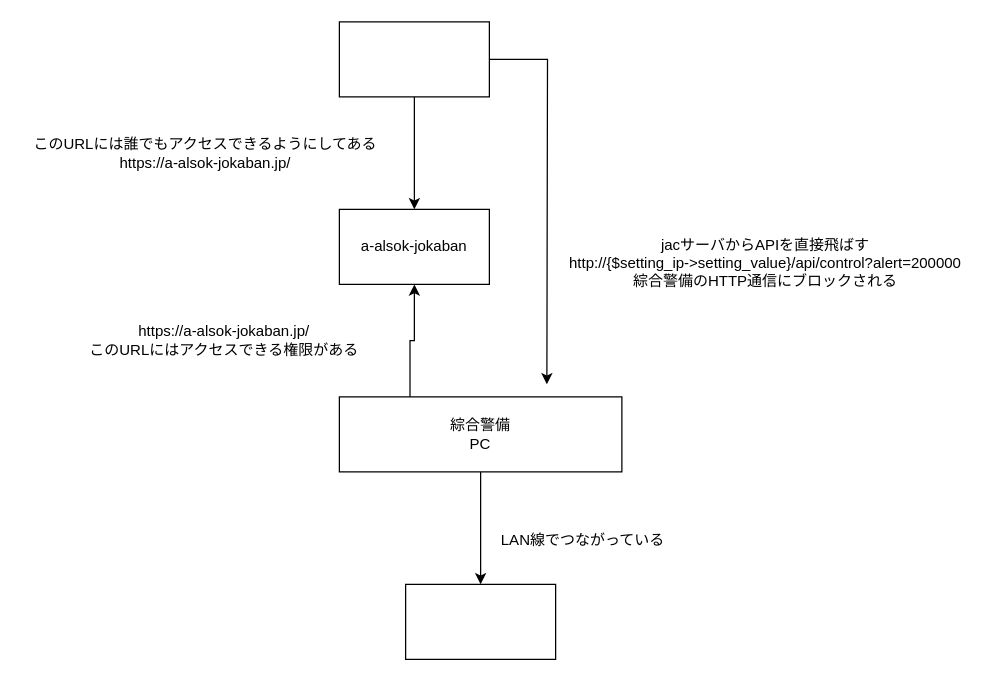
Image size: 993x681. Some labels were removed from this diagram. The centre of each missing label's shape, as x and y in pixels:
JAC サーバ: the point at 413,59
パトライト: the point at 480,621
